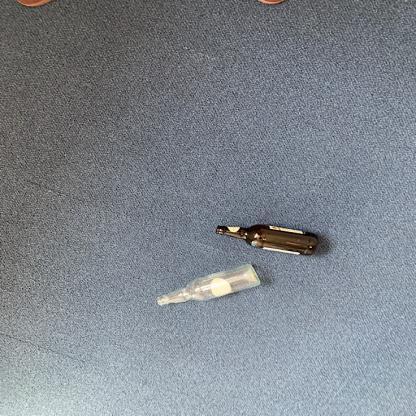trash: (150, 260, 270, 314), (212, 220, 323, 261)
